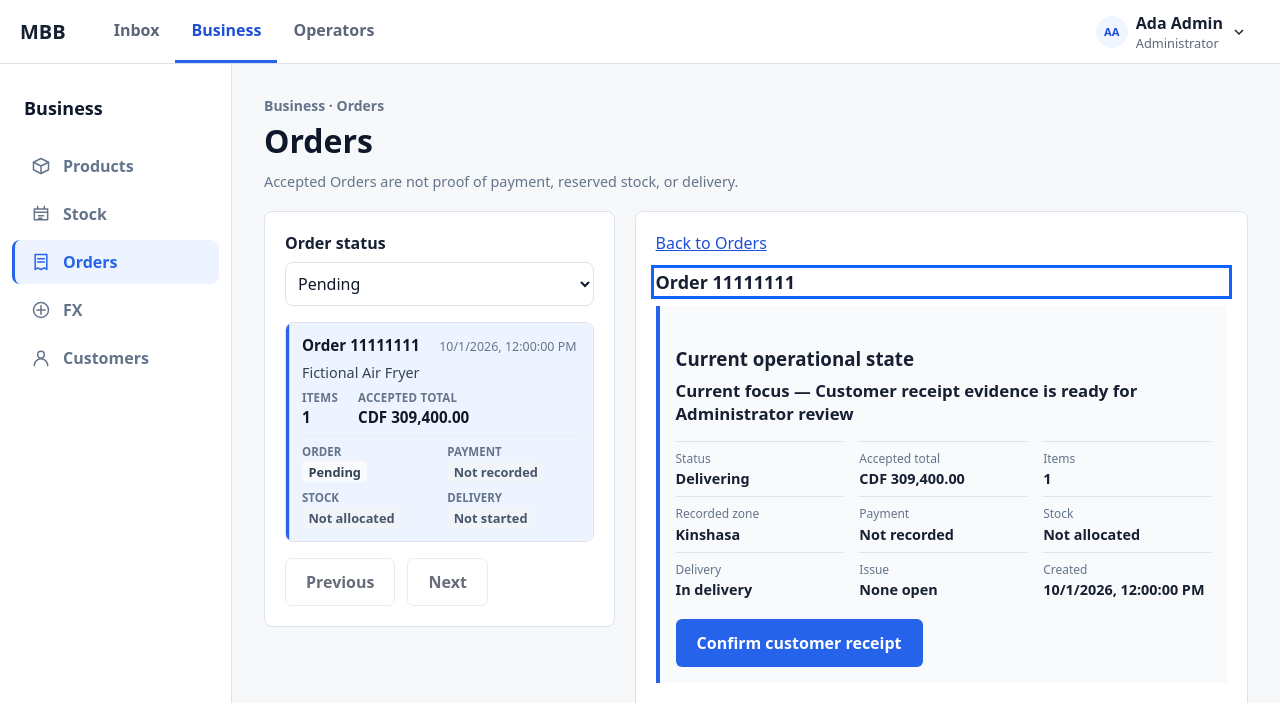
read-only Business Orders › refreshes delivery eligibility after evidence conflict
The image size is (1280, 703).
What coordinates should you click on to do the following:
click the button "Confirm customer receipt"
I would click on:
 (799, 643)
Its box is top-left (676, 619), bottom-right (922, 667).
(page scrolled)
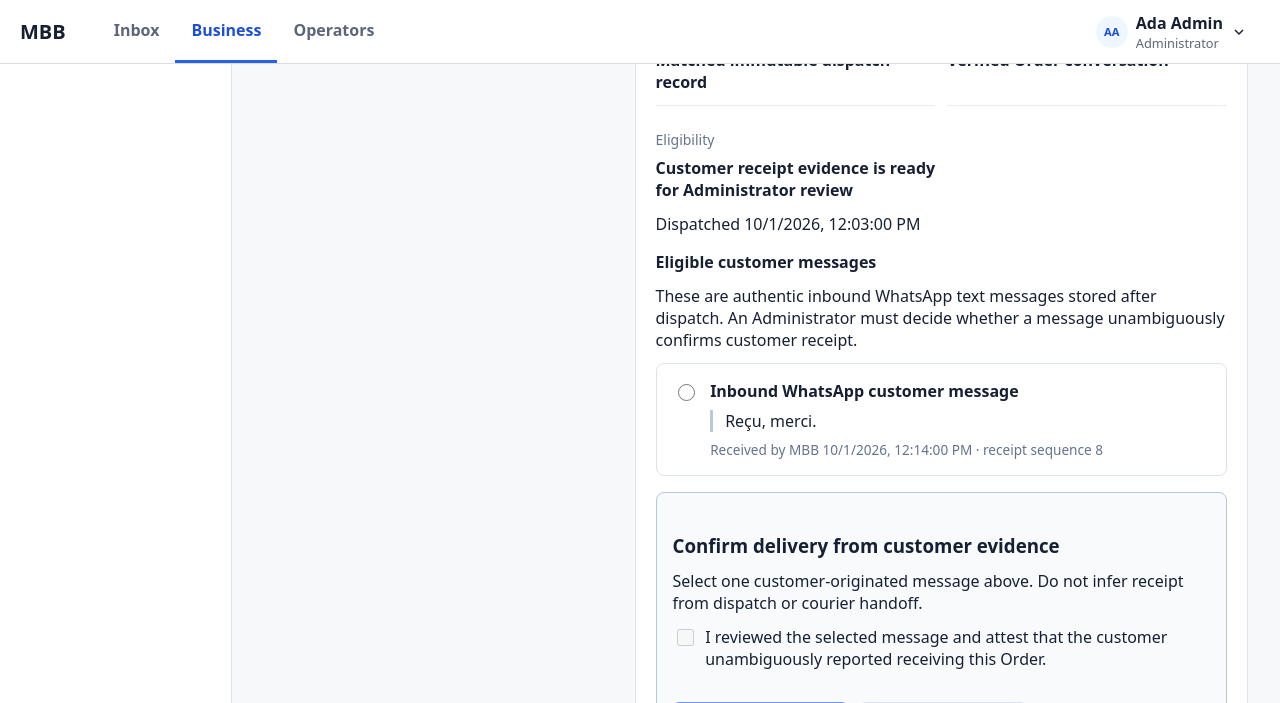
What coordinates should you click on to do the following:
click the radio button labelled "Inbound WhatsApp customer message"
I would click on:
 (686, 392)
Its box is top-left (678, 384), bottom-right (695, 401).
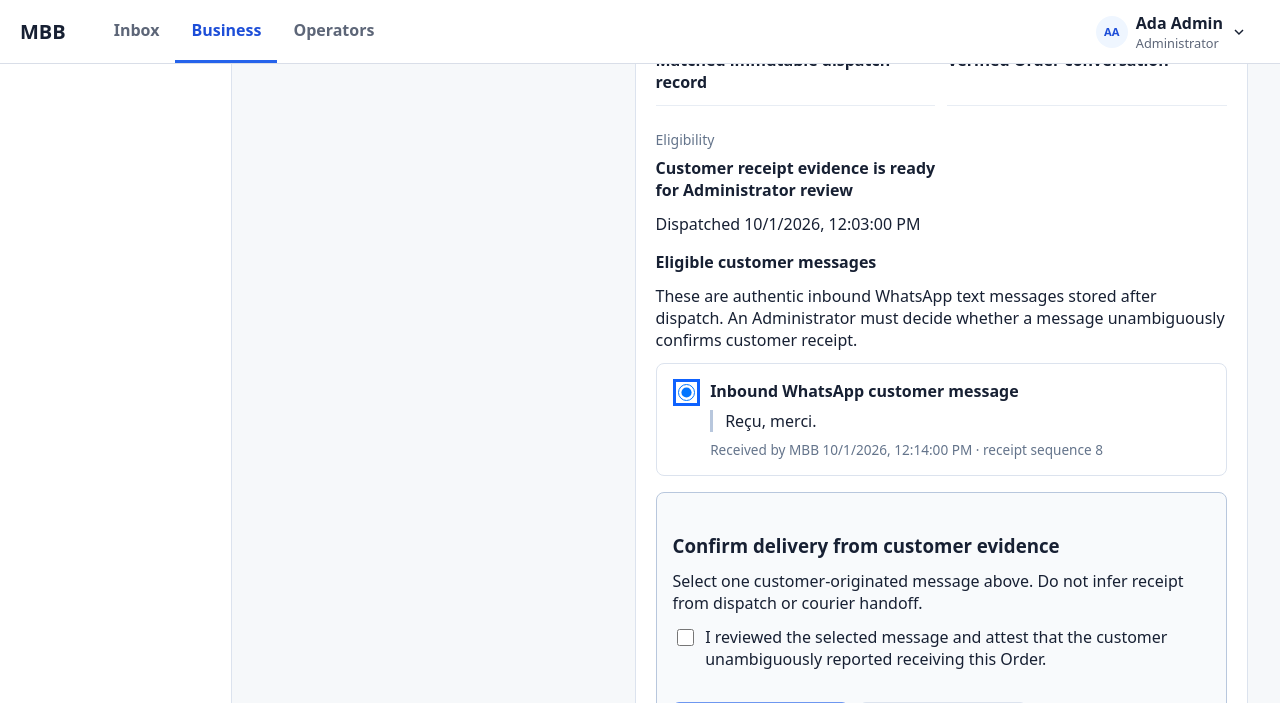
What coordinates should you click on to do the following:
click the checkbox named "attest that the customer unambiguously reported receiving"
I would click on:
 (685, 638)
Its box is top-left (676, 629), bottom-right (694, 646).
(page scrolled)
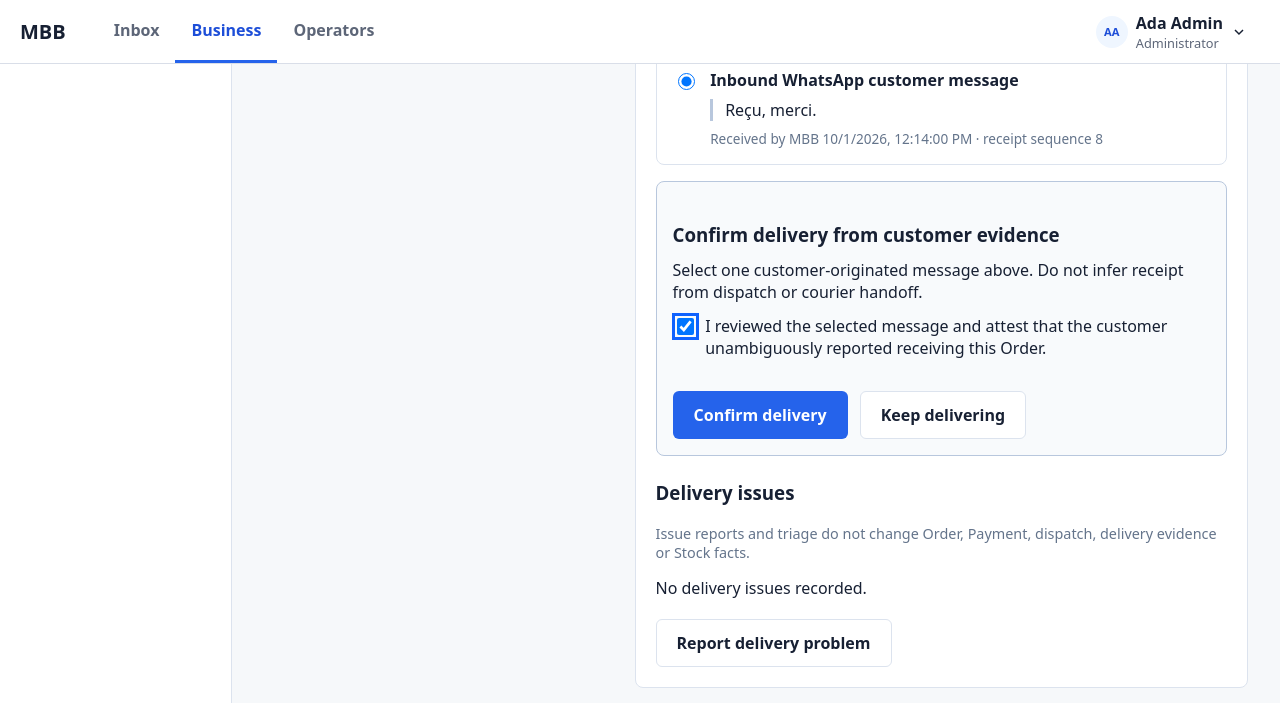
What coordinates should you click on to do the following:
click the button "Confirm delivery"
I would click on:
 (760, 416)
Its box is top-left (672, 392), bottom-right (848, 440).
(page scrolled)
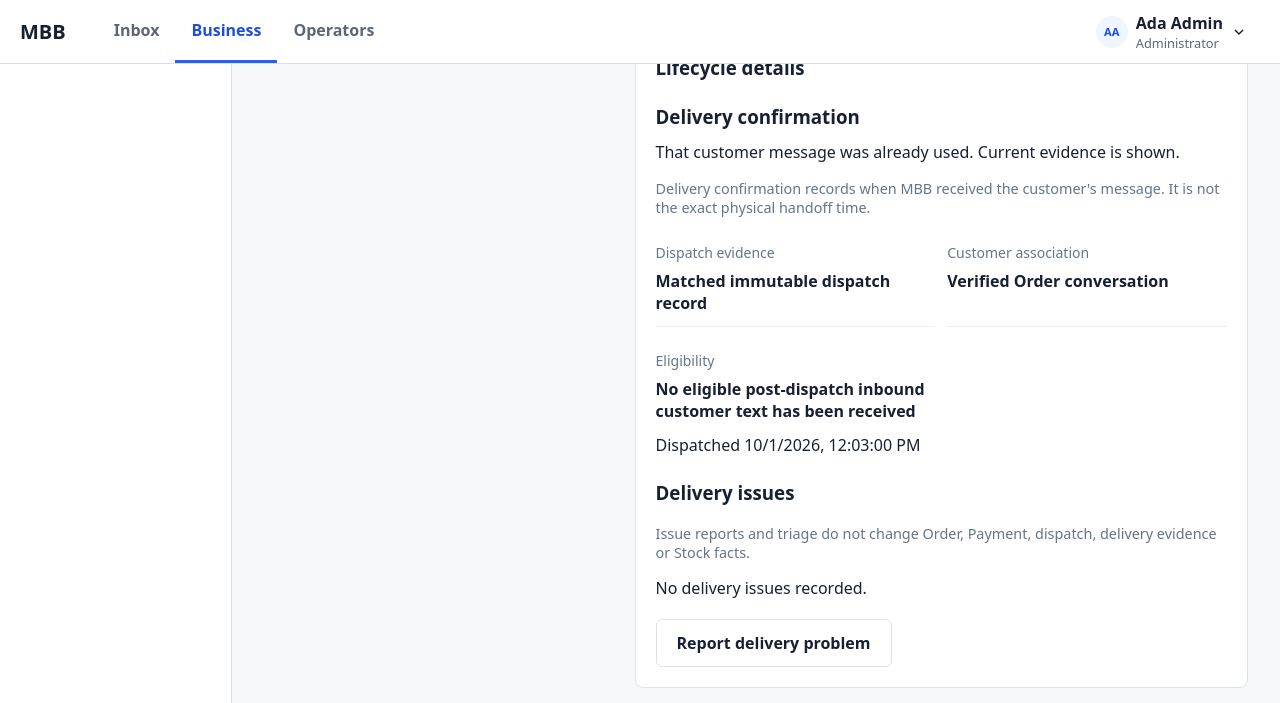
Check: the button "Confirm customer receipt" is not shown
Check: the message shows "already used", box top-left (656, 141), bottom-right (1180, 163)
Check: the text "No eligible post-dispatch inbound customer text has been received" is shown, box top-left (656, 378), bottom-right (935, 422)
